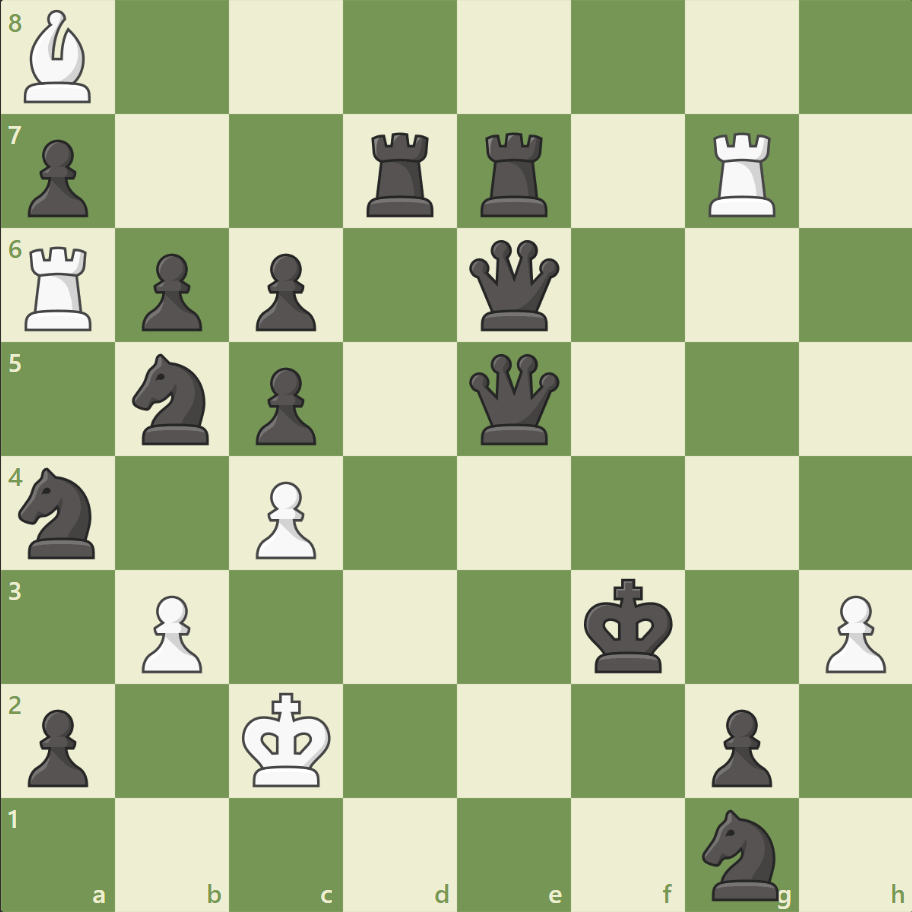B: (17, 6, 101, 109)
K: (238, 685, 338, 793)
P: (247, 473, 322, 564), (133, 586, 208, 677), (815, 586, 889, 677)
R: (700, 125, 783, 222), (19, 239, 102, 336)
k: (579, 571, 679, 679)
n: (124, 348, 222, 450), (11, 461, 108, 564), (692, 802, 789, 904)
p: (20, 132, 95, 223), (133, 246, 208, 337), (247, 246, 322, 337), (247, 359, 322, 450), (20, 700, 95, 791), (701, 700, 776, 791)
q: (464, 349, 563, 449), (464, 236, 563, 335)
r: (473, 125, 556, 222), (360, 125, 442, 222)
